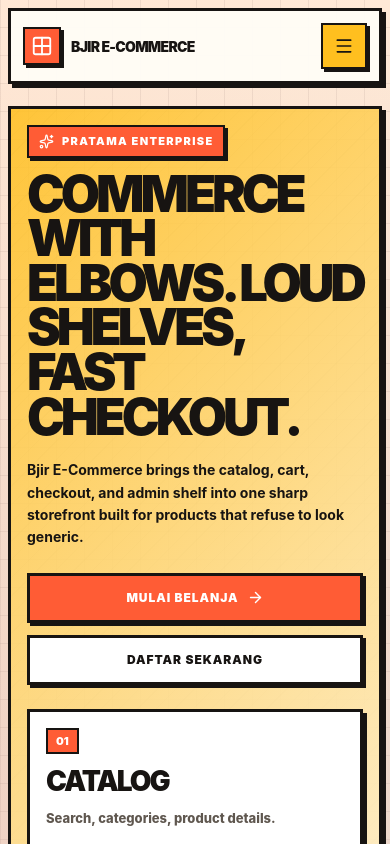
Test case: LandingPage › toggles the mobile landing navigation menu
The width and height of the screenshot is (390, 844).
Click the button named "buka menu navigasi landing": (344, 46) [321,23,367,69]
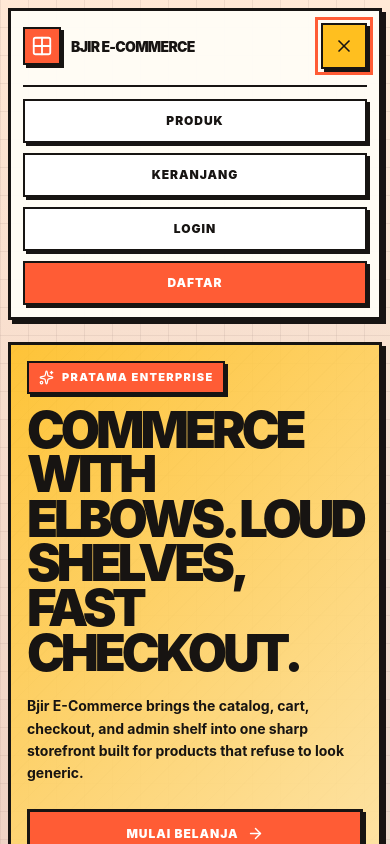
Check: the button named "tutup menu navigasi landing" is expanded
Check: the navigation bar named "mobile landing navigation" is shown, box [23,85,367,305]
Click the button named "tutup menu navigasi landing": (344, 46) [321,23,367,69]
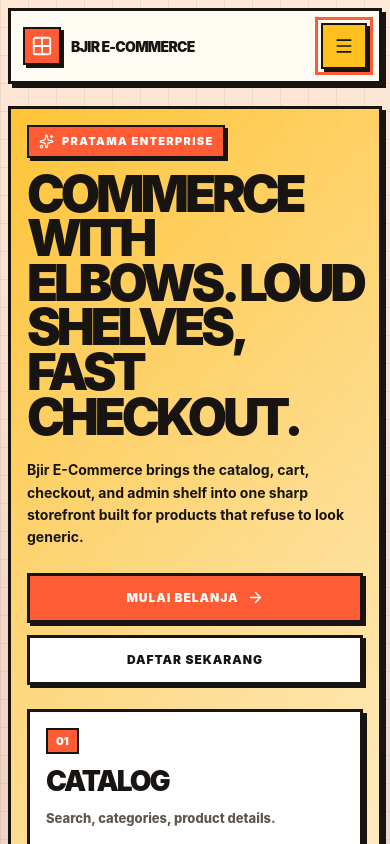
Check: the button named "buka menu navigasi landing" is collapsed, box [321,23,367,69]
